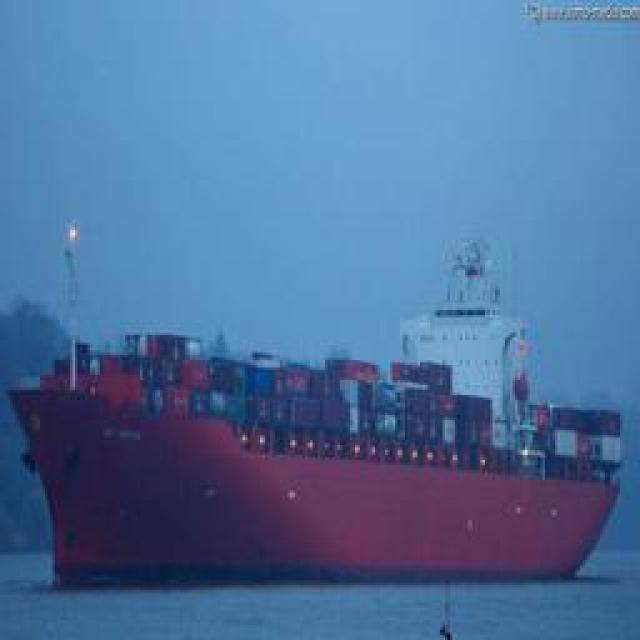Ship: (16, 261, 626, 586)
